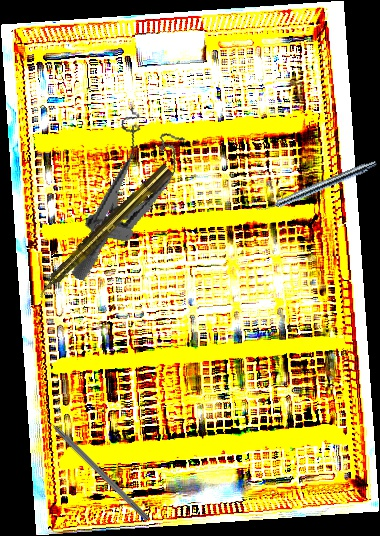Handpiece: (32, 162, 175, 301), (253, 156, 379, 218)
Hook Surgical: (34, 405, 151, 523)
Speculum: (69, 102, 191, 297)
